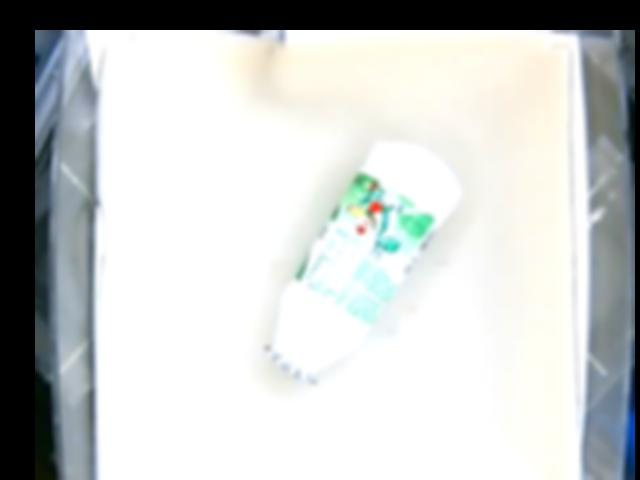Bottle: (270, 136, 464, 385)
